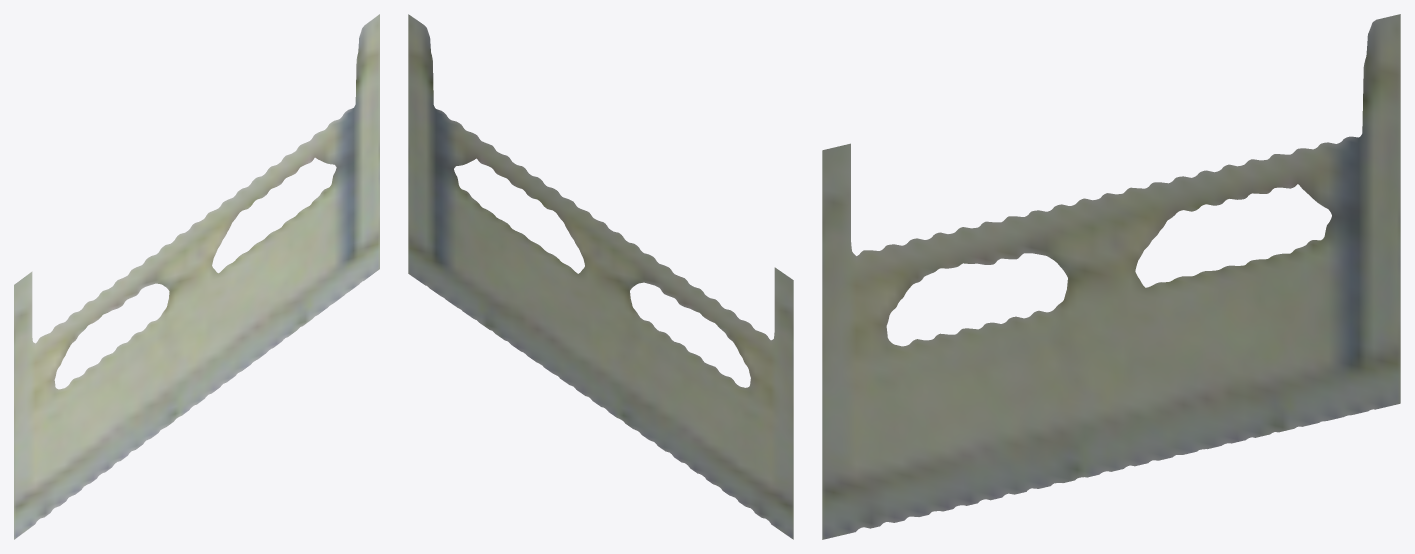
File: 人民英雄纪念碑104.dae
The picture shows the model from 3 angles, left to right: view 1: azimuth 30°, elevation 25°; view 2: azimuth 150°, elevation 25°; view 3: azimuth 330°, elevation 25°; orthographic projection. The views are drawn at different scales.
Visible parts, largest first — view 1: SketchUp; view 2: SketchUp; view 3: SketchUp.
Part boxes in pixels (x1,y1,x2,y2): SketchUp: (14, 14, 379, 539); SketchUp: (408, 14, 793, 539); SketchUp: (822, 14, 1400, 539).
Size of the model in its own units: 84.18 by 2.5 by 93.02.
1 material, 1 textured.
